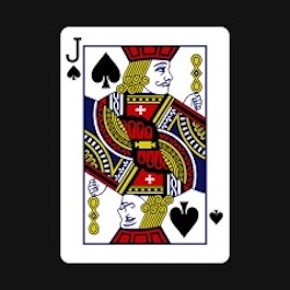JackOfSpades: (56, 21, 235, 269)
